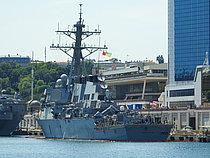MIL_Ship: (31, 13, 172, 142)
